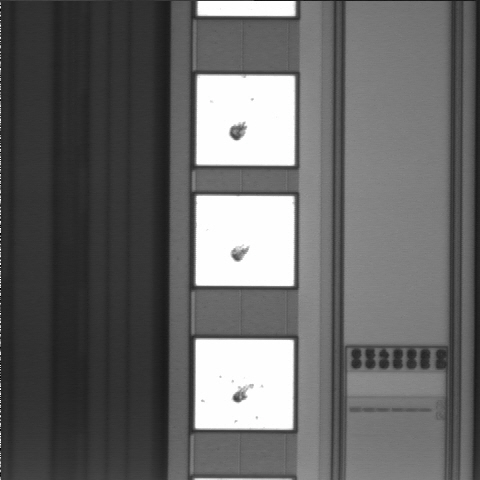pad: (196, 75, 295, 166), (195, 339, 294, 430), (196, 196, 294, 286)
